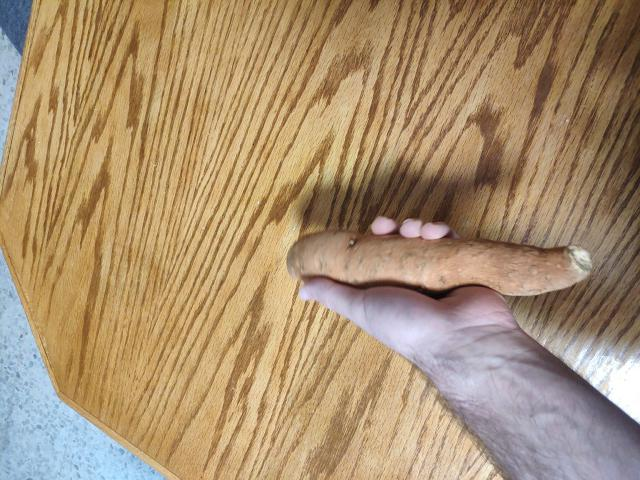sweet_potato: (264, 216, 594, 315)
